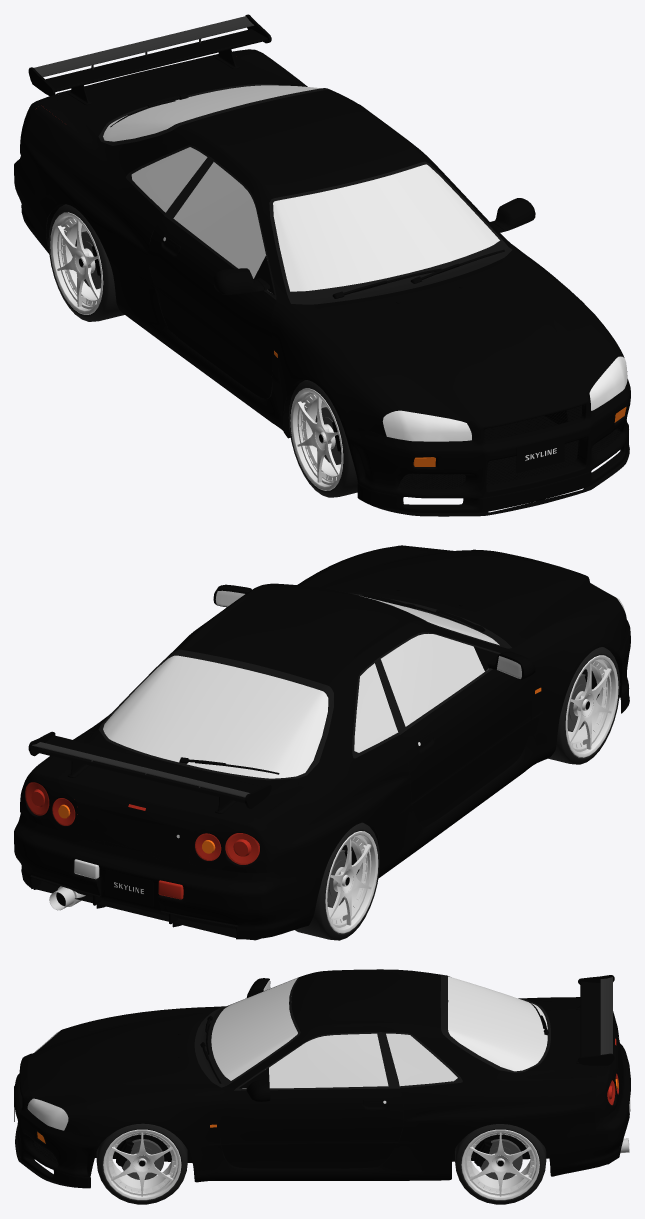
3 renders of one model, top to bottom at view 1: azimuth 30°, elevation 25°; view 2: azimuth 150°, elevation 25°; view 3: azimuth 270°, elevation 25°, orthographic. The views are drawn at different scales.
Visible parts, largest first — view 1: body, hood, windshield, front bumper, doors, trunk, wing, wide windows, Circle.011, Circle.012, front splitter, rear windshield (+8 smaller); view 2: body, rear windshield, hood, rear bumper, doors, trunk, wide windows, Circle.011, wing, Circle.012, rear lights panel, rear lights (+8 smaller); view 3: body, doors, hood, windshield, rear windshield, Circle.001, Circle.007, wide windows, front bumper, rear bumper, trunk, wing (+7 smaller).
Part boxes in pixels (left/top/right/bottom): body: left=19, top=52, right=627, bottom=437; hood: left=291, top=250, right=615, bottom=422; windshield: left=269, top=161, right=512, bottom=304; front bumper: left=340, top=379, right=630, bottom=498; doors: left=148, top=156, right=437, bottom=398; trunk: left=41, top=52, right=298, bottom=137; wing: left=28, top=14, right=271, bottom=105; wide windows: left=173, top=162, right=270, bottom=292; Circle.011: left=48, top=204, right=124, bottom=321; Circle.012: left=288, top=380, right=357, bottom=497; front splitter: left=357, top=432, right=629, bottom=516; rear windshield: left=103, top=85, right=320, bottom=141; body: left=38, top=545, right=627, bottom=885; rear windshield: left=103, top=655, right=328, bottom=778; hood: left=303, top=545, right=615, bottom=647; rear bumper: left=14, top=813, right=321, bottom=939; doors: left=374, top=632, right=531, bottom=827; trunk: left=41, top=730, right=298, bottom=860; wide windows: left=381, top=634, right=484, bottom=726; Circle.011: left=295, top=822, right=379, bottom=940; wing: left=28, top=731, right=271, bottom=813; Circle.012: left=548, top=647, right=620, bottom=764; rear lights panel: left=20, top=765, right=279, bottom=873; rear lights: left=25, top=782, right=259, bottom=899; body: left=61, top=969, right=596, bottom=1182; doors: left=220, top=1032, right=403, bottom=1168; hood: left=27, top=1007, right=220, bottom=1107; windshield: left=194, top=977, right=300, bottom=1087; rear windshield: left=448, top=976, right=547, bottom=1071; Circle.001: left=455, top=1124, right=546, bottom=1204; Circle.007: left=96, top=1123, right=187, bottom=1204; wide windows: left=242, top=996, right=388, bottom=1088; front bumper: left=14, top=1053, right=106, bottom=1176; rear bumper: left=545, top=1043, right=630, bottom=1176; trunk: left=525, top=998, right=622, bottom=1089; wing: left=576, top=975, right=614, bottom=1065.
Bounding box in the file's own units: 203 × 133 × 460.
24 materials, 1 textured.
